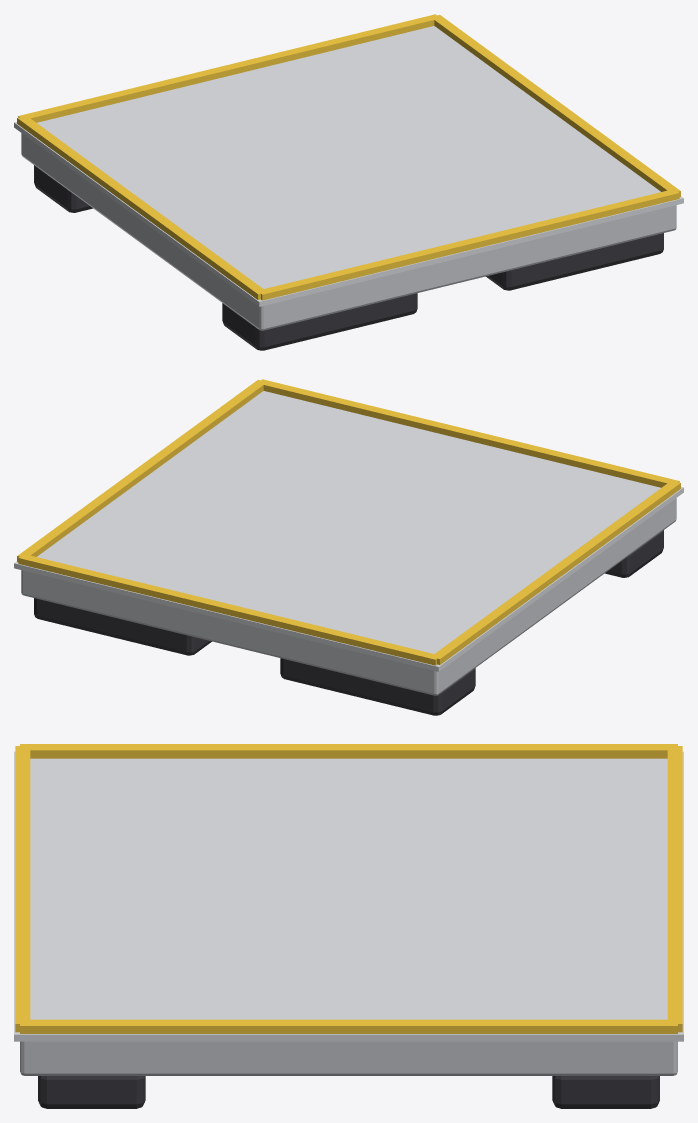
File: crawler.glb
3 views of the same model, one above another, from view 1: azimuth 30°, elevation 25°; view 2: azimuth 150°, elevation 25°; view 3: azimuth 270°, elevation 25° (orthographic). The views are drawn at different scales.
Visible parts, largest first — view 1: crawler; view 2: crawler; view 3: crawler.
Part boxes in pixels (<box>): crawler: <box>14,14,683,350</box>; crawler: <box>14,379,683,715</box>; crawler: <box>14,744,683,1108</box>.
Size of the model in its own units: 22.4 by 3.38 by 22.4.
